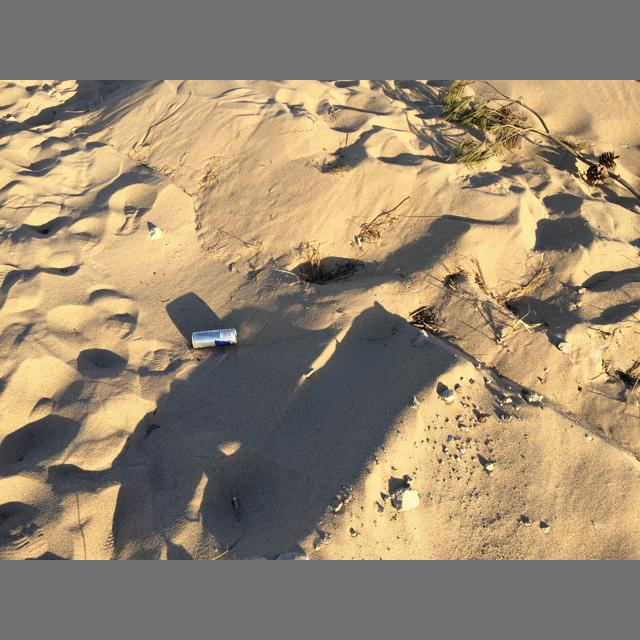litter: (192, 328, 237, 348), (232, 497, 238, 509), (357, 237, 361, 245)
